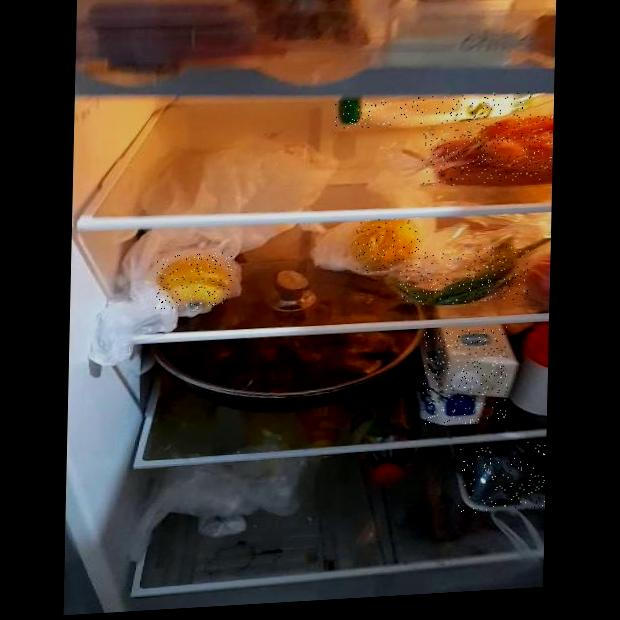broccoli: (456, 439, 547, 514)
carrot: (421, 115, 553, 188)
green chilies: (397, 245, 529, 307)
lemon: (155, 252, 232, 310), (354, 217, 421, 274)
milk: (422, 326, 509, 426), (335, 90, 533, 130)
